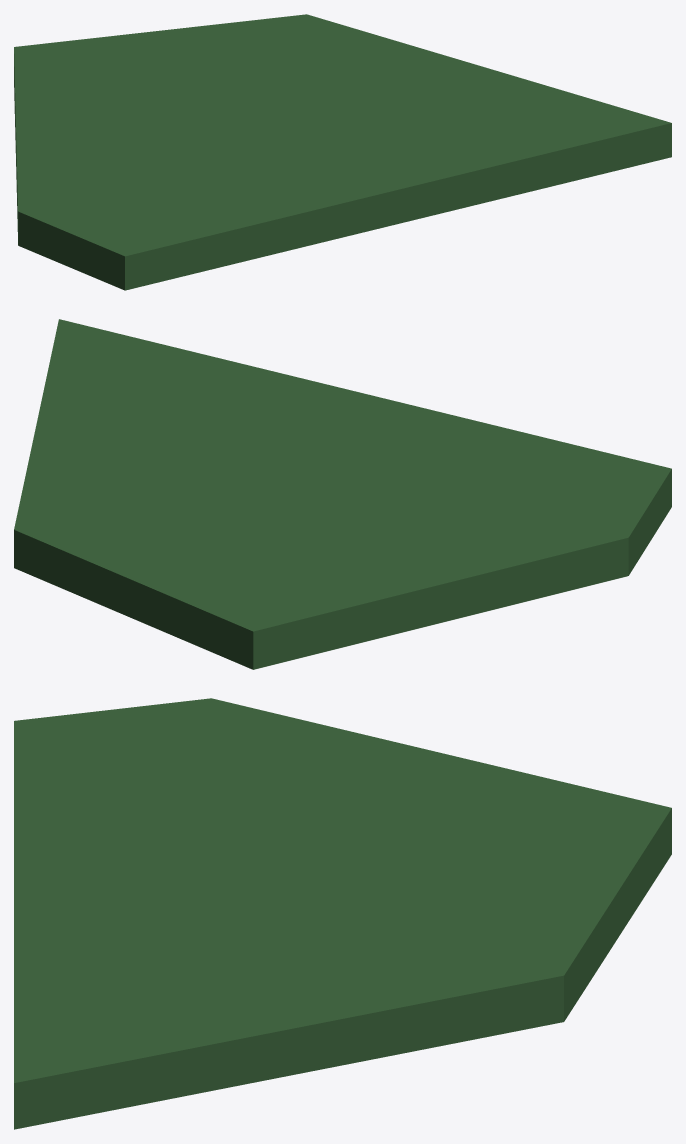
The model's file is x_proval_00_95_1_rmstrd.fbx.
3 views of the same model, one above another, from view 1: azimuth 30°, elevation 25°; view 2: azimuth 150°, elevation 25°; view 3: azimuth 270°, elevation 25° (orthographic). The views are drawn at different scales.
Parts seen in each view (by area): view 1: x_proval_00_95_1_rmstrd1; view 2: x_proval_00_95_1_rmstrd1; view 3: x_proval_00_95_1_rmstrd1.
Boxes of the visible parts, x1,y1,x2,y2 form: x_proval_00_95_1_rmstrd1: (14,14,671,290); x_proval_00_95_1_rmstrd1: (14,319,671,669); x_proval_00_95_1_rmstrd1: (14,698,671,1129).
Bounding box in the file's own units: 3.55 × 0.2 × 2.57.
